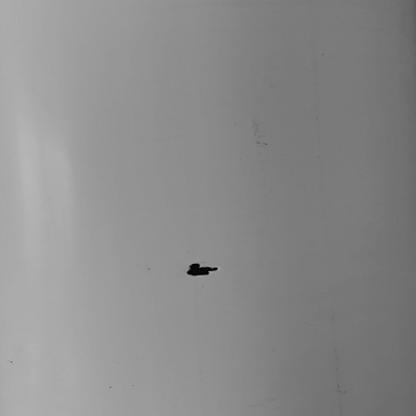kongdong: (181, 260, 227, 277)
